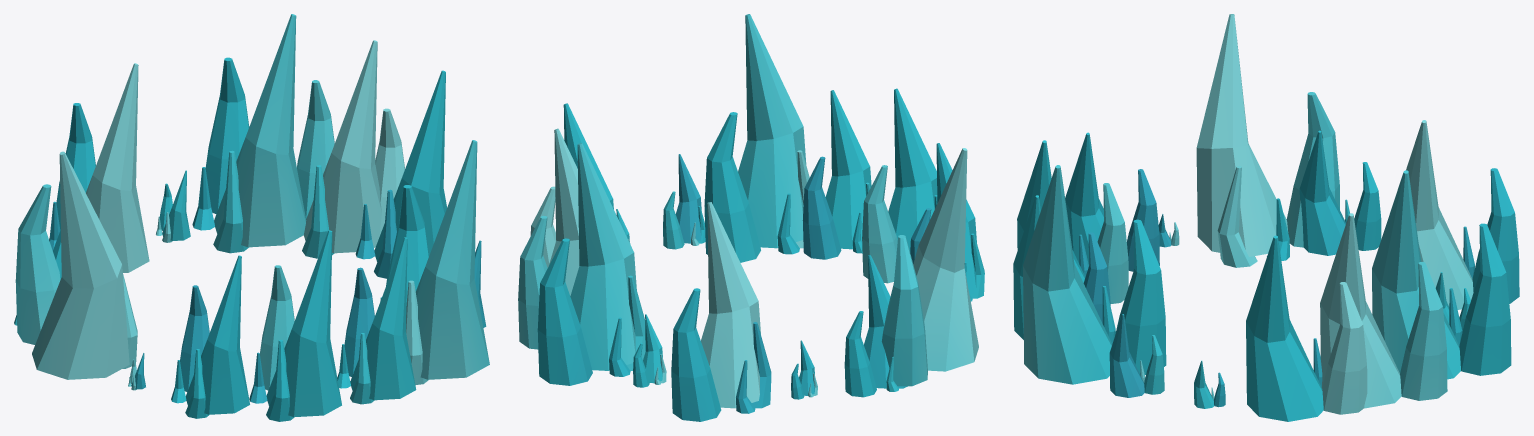
File: IceShards Fixed.fbx
The picture shows the model from 3 angles, left to right: view 1: azimuth 30°, elevation 25°; view 2: azimuth 150°, elevation 25°; view 3: azimuth 270°, elevation 25°; orthographic projection. The views are drawn at different scales.
Parts seen in each view (by area): view 1: IceShards.001; view 2: IceShards.001; view 3: IceShards.001.
Boxes of the visible parts, x1,y1,x2,y2 form: IceShards.001: [14, 14, 489, 421]; IceShards.001: [518, 14, 984, 421]; IceShards.001: [1013, 14, 1519, 421].
Size of the model in its own units: 380 by 365 by 181.
Materials: 1 (1 with a texture image).
